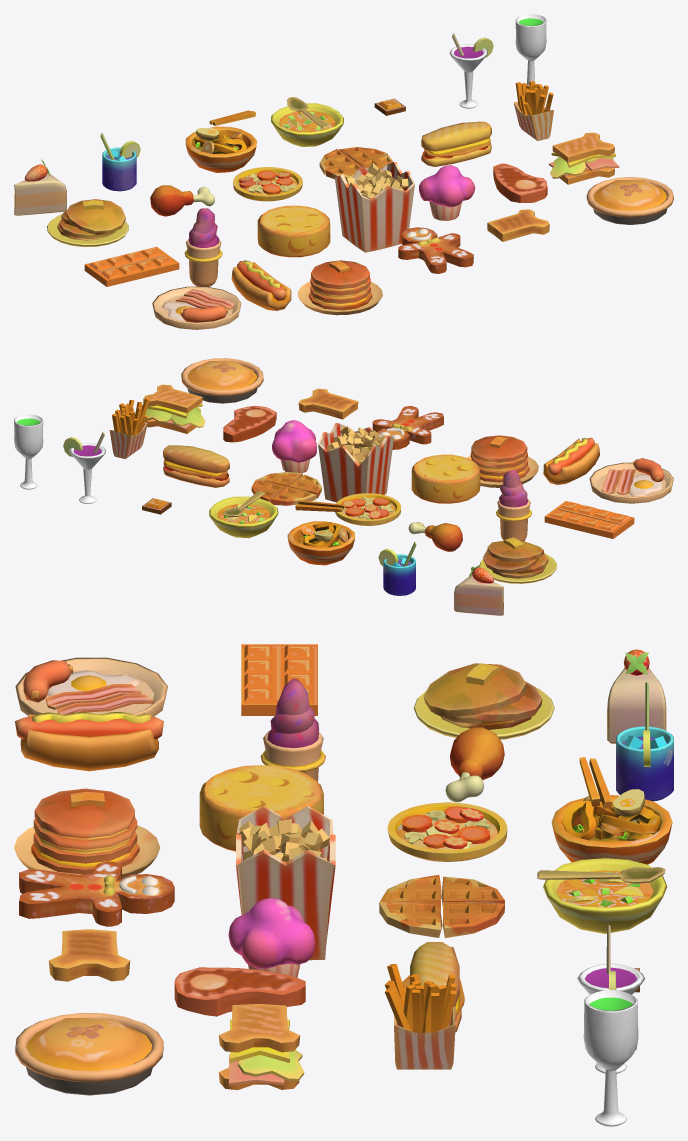
The model's file is Free_Low_Poly_Food_Asset_Pack.glb.
The picture shows the model from 3 angles, top to bottom: view 1: azimuth 30°, elevation 25°; view 2: azimuth 150°, elevation 25°; view 3: azimuth 270°, elevation 25°; orthographic projection. The views are drawn at different scales.
Visible parts, largest first — view 1: PopCorn_Foodback_Materials_10_20_0, Pancake_Big_Foodback_Materials_10_20_0, Pie_Foodback_Materials_10_20_0, Cheese_Foodback_Materials_10_20_0, BreakFastPlate_Foodback_Materials_10_20_0, Pancake_Little_Food_Pack_Materials_1_10_0, Noodle_Food_Pack_Materials_1_10_0, Sandwich_Toast_Foodback_Materials_10_20_0, Sandwich_Food_Pack_Materials_1_10_0, CoockieMan_Foodback_Materials_10_20_0, Chocolate_Foodback_Materials_10_20_0, Soap_Food_Pack_Materials_1_10_0 (+14 smaller); view 2: PopCorn_Foodback_Materials_10_20_0, Pie_Foodback_Materials_10_20_0, Cheese_Foodback_Materials_10_20_0, BreakFastPlate_Foodback_Materials_10_20_0, Pancake_Little_Food_Pack_Materials_1_10_0, Pancake_Big_Foodback_Materials_10_20_0, Noodle_Food_Pack_Materials_1_10_0, Sandwich_Food_Pack_Materials_1_10_0, Sandwich_Toast_Foodback_Materials_10_20_0, Chocolate_Foodback_Materials_10_20_0, Soap_Food_Pack_Materials_1_10_0, Cake_Food_Pack_Materials_1_10_0 (+15 smaller); view 3: PopCorn_Foodback_Materials_10_20_0, Pie_Foodback_Materials_10_20_0, Pancake_Big_Foodback_Materials_10_20_0, Pancake_Little_Food_Pack_Materials_1_10_0, BreakFastPlate_Foodback_Materials_10_20_0, HotDog_Foodback_Materials_10_20_0, CoockieMan_Foodback_Materials_10_20_0, Noodle_Food_Pack_Materials_1_10_0, Cheese_Foodback_Materials_10_20_0, Soap_Food_Pack_Materials_1_10_0, Waffle_Food_Pack_Materials_1_10_0, Sandwich_Toast_Foodback_Materials_10_20_0 (+16 smaller).
Part boxes in pixels (x1,y1,x2,y2): PopCorn_Foodback_Materials_10_20_0: (334, 162, 414, 252); Pancake_Big_Foodback_Materials_10_20_0: (297, 260, 382, 315); Pie_Foodback_Materials_10_20_0: (586, 177, 673, 224); Cheese_Foodback_Materials_10_20_0: (257, 205, 330, 257); BreakFastPlate_Foodback_Materials_10_20_0: (152, 286, 241, 329); Pancake_Little_Food_Pack_Materials_1_10_0: (47, 199, 128, 246); Noodle_Food_Pack_Materials_1_10_0: (185, 126, 256, 172); Sandwich_Toast_Foodback_Materials_10_20_0: (549, 132, 619, 184); Sandwich_Food_Pack_Materials_1_10_0: (421, 121, 491, 166); CoockieMan_Foodback_Materials_10_20_0: (398, 227, 473, 273); Chocolate_Foodback_Materials_10_20_0: (84, 246, 179, 286); Soap_Food_Pack_Materials_1_10_0: (271, 103, 343, 146); PopCorn_Foodback_Materials_10_20_0: (318, 423, 393, 502); Pie_Foodback_Materials_10_20_0: (181, 358, 263, 403); Cheese_Foodback_Materials_10_20_0: (411, 454, 480, 503); BreakFastPlate_Foodback_Materials_10_20_0: (589, 458, 673, 503); Pancake_Little_Food_Pack_Materials_1_10_0: (479, 537, 556, 583); Pancake_Big_Foodback_Materials_10_20_0: (466, 435, 538, 487); Noodle_Food_Pack_Materials_1_10_0: (287, 521, 355, 565); Sandwich_Food_Pack_Materials_1_10_0: (163, 445, 229, 487); Sandwich_Toast_Foodback_Materials_10_20_0: (141, 384, 205, 433); Chocolate_Foodback_Materials_10_20_0: (544, 501, 634, 538); Soap_Food_Pack_Materials_1_10_0: (209, 496, 278, 538); Cake_Food_Pack_Materials_1_10_0: (454, 564, 503, 615); PopCorn_Foodback_Materials_10_20_0: (236, 806, 335, 960); Pie_Foodback_Materials_10_20_0: (15, 1012, 163, 1095); Pancake_Big_Foodback_Materials_10_20_0: (14, 788, 160, 878); Pancake_Little_Food_Pack_Materials_1_10_0: (413, 663, 554, 739); BreakFastPlate_Foodback_Materials_10_20_0: (15, 657, 167, 716); HotDog_Foodback_Materials_10_20_0: (15, 712, 163, 771); CoockieMan_Foodback_Materials_10_20_0: (19, 861, 174, 926); Noodle_Food_Pack_Materials_1_10_0: (551, 789, 672, 864); Cheese_Foodback_Materials_10_20_0: (199, 765, 323, 851); Soap_Food_Pack_Materials_1_10_0: (543, 858, 667, 933); Waffle_Food_Pack_Materials_1_10_0: (379, 874, 504, 937); Sandwich_Toast_Foodback_Materials_10_20_0: (218, 1004, 304, 1090).
Bounding box in the file's own units: 17.41 × 3.05 × 10.62.
Materials: 3 (2 with a texture image).
